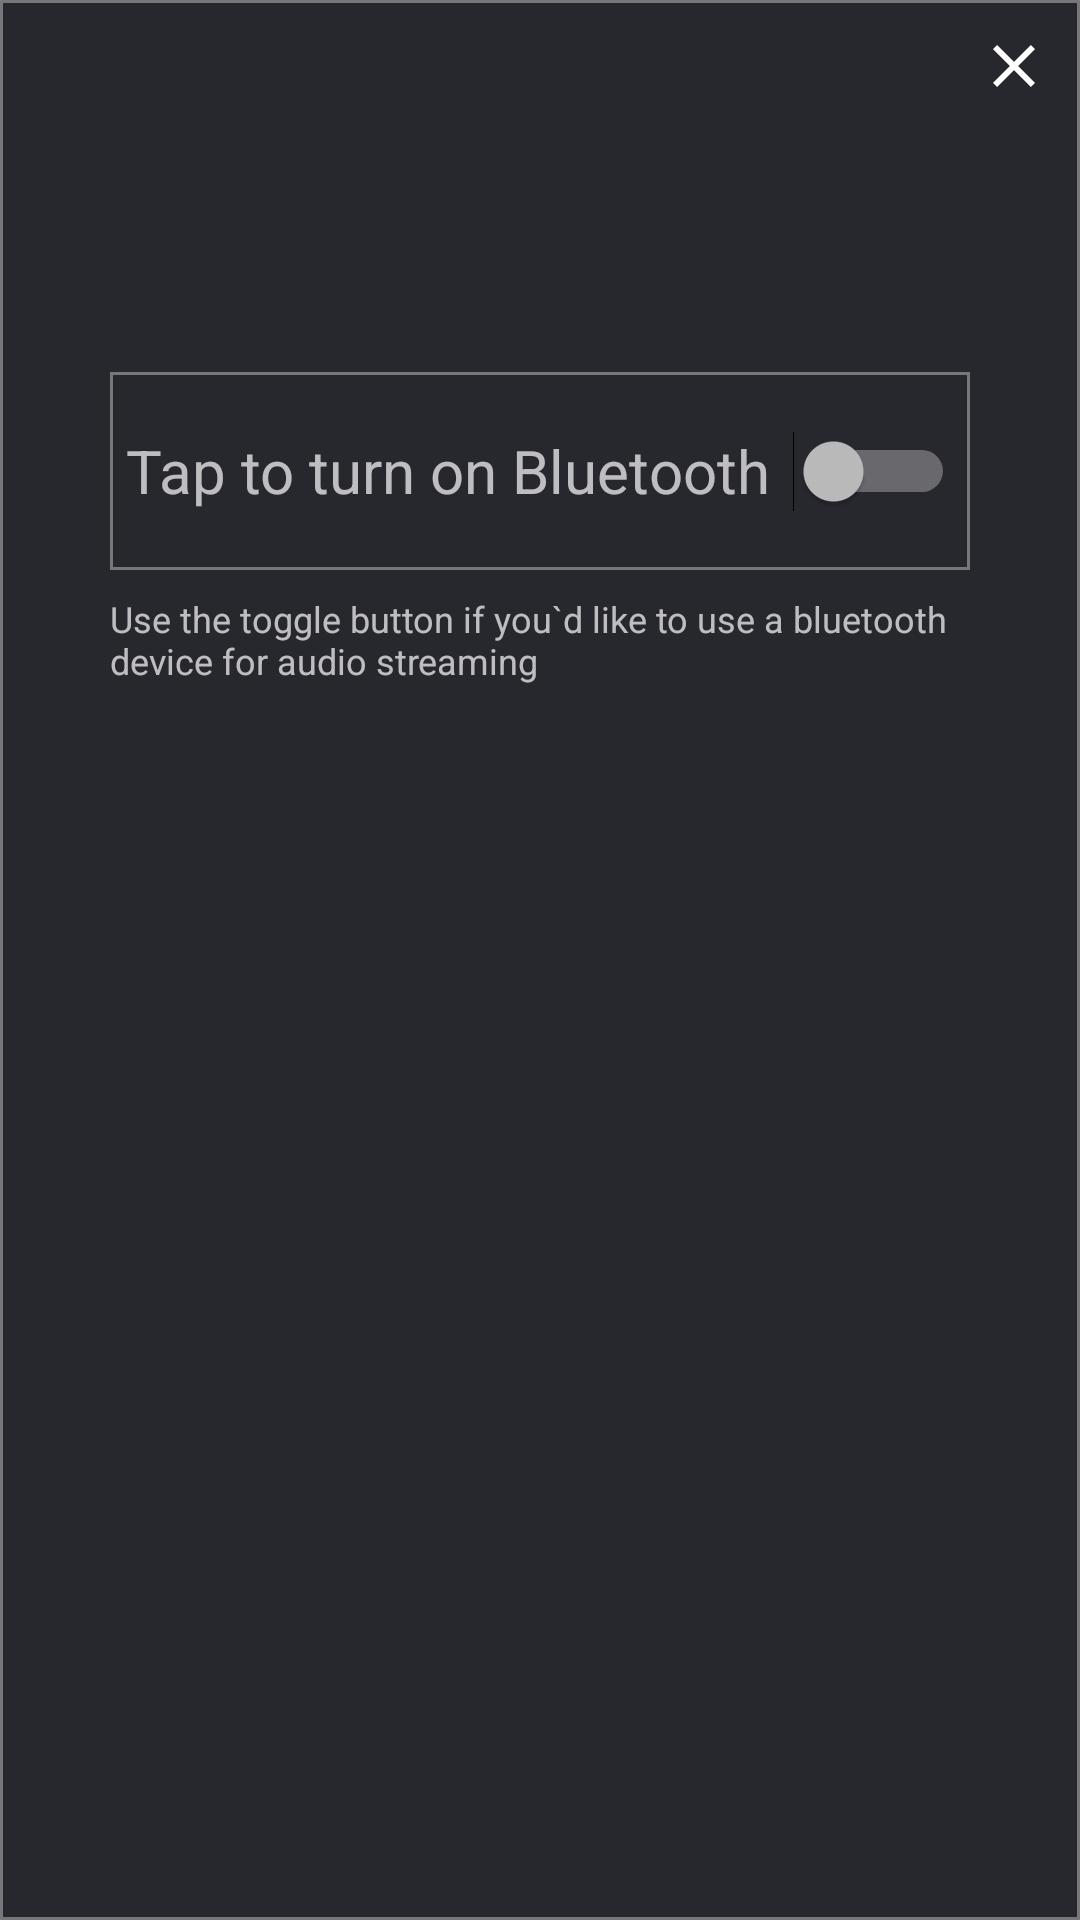

Locate icon controls on the screen. Image size 1080w x 1920h, boxes as bbox=[x1, y1, x2, y2].
Exit view: bbox=[948, 0, 1080, 132]
